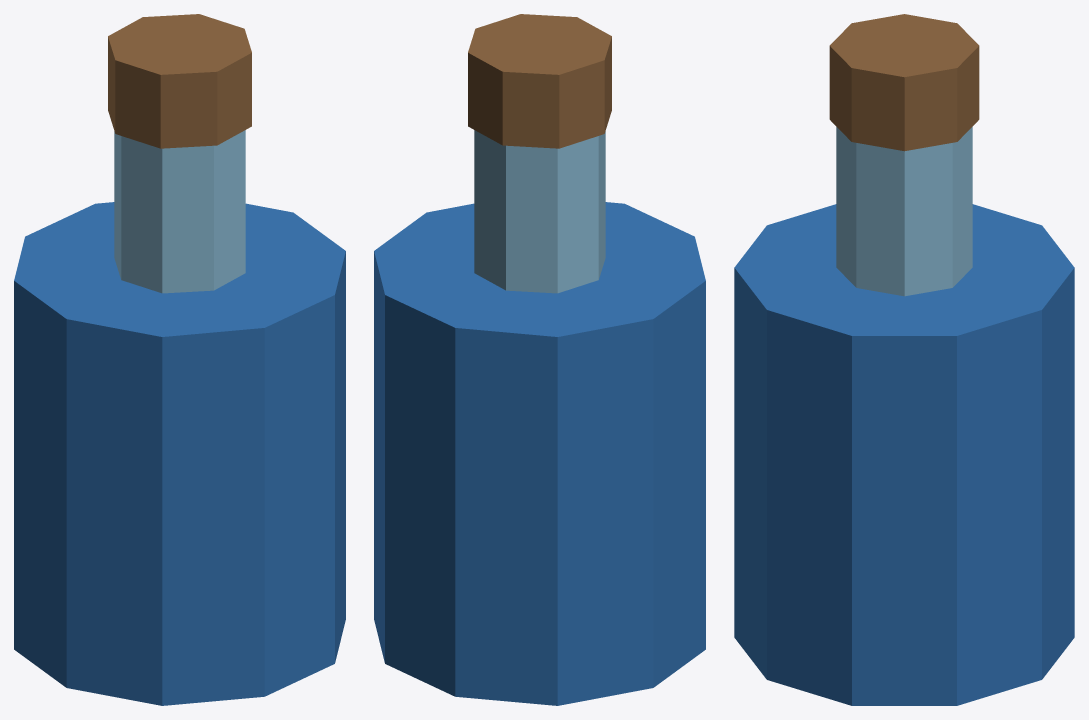
The model's file is SM_GZ_item_clear_water.fbx.
3 renders of one model, left to right at view 1: azimuth 30°, elevation 25°; view 2: azimuth 150°, elevation 25°; view 3: azimuth 270°, elevation 25°, orthographic.
Parts seen in each view (by area): view 1: SM_GZ_item_clear_water; view 2: SM_GZ_item_clear_water; view 3: SM_GZ_item_clear_water.
Boxes of the visible parts, box(x1,y1,x2,y2) form: SM_GZ_item_clear_water: box(14, 14, 345, 705); SM_GZ_item_clear_water: box(374, 14, 705, 705); SM_GZ_item_clear_water: box(734, 14, 1074, 705).
Bounding box in the file's own units: 47.55 × 96 × 50.
